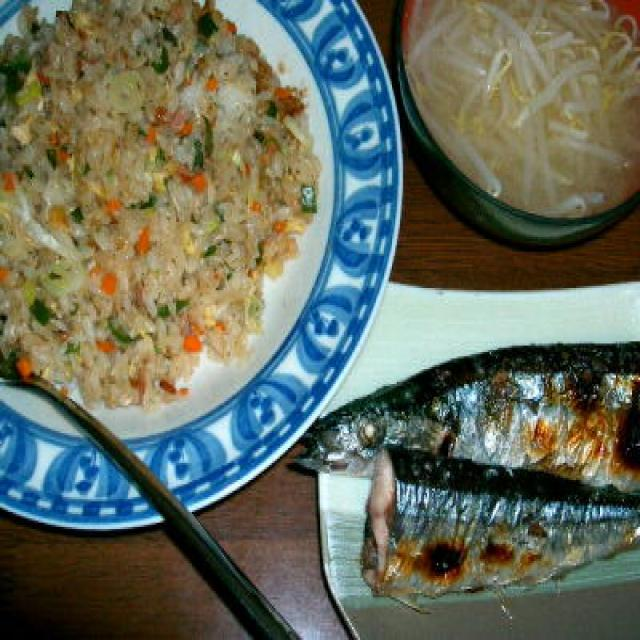熟制海鲜: (302, 320, 640, 597)
